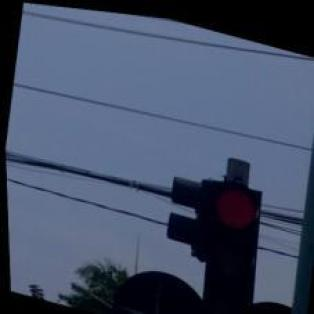Semoforo Rojo: (188, 172, 271, 312)
